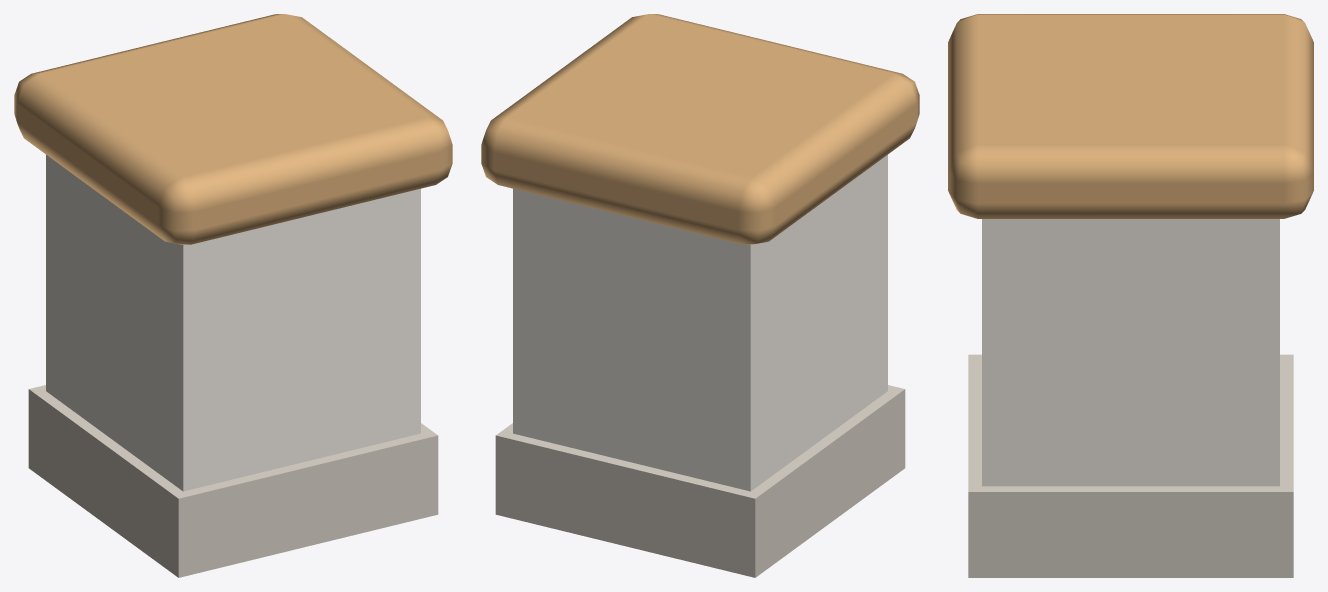
Rendered from pfosten_sockel.glb.
3 views of the same model, side by side, from view 1: azimuth 30°, elevation 25°; view 2: azimuth 150°, elevation 25°; view 3: azimuth 270°, elevation 25° (orthographic). The views are drawn at different scales.
Parts seen in each view (by area): view 1: pfosten_sockel; view 2: pfosten_sockel; view 3: pfosten_sockel.
Boxes of the visible parts, x1,y1,x2,y2 form: pfosten_sockel: [14, 14, 452, 577]; pfosten_sockel: [481, 14, 919, 577]; pfosten_sockel: [948, 14, 1313, 577].
Bounding box in the file's own units: 0.27 × 0.35 × 0.27.
